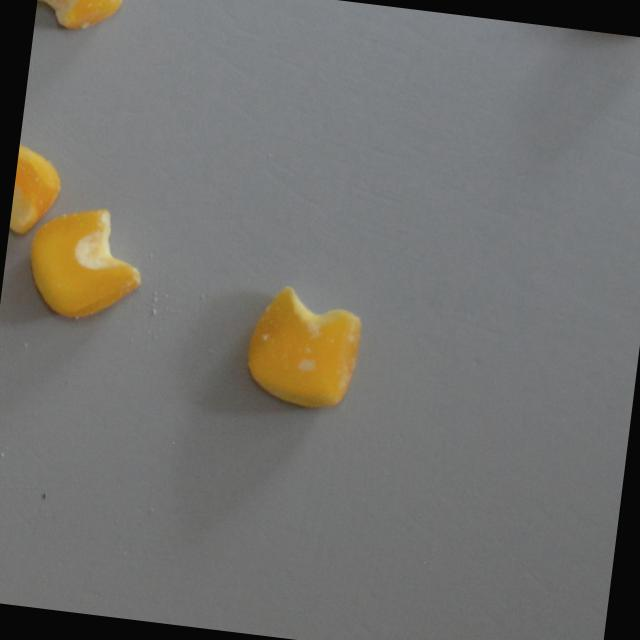no_desgerminado: (20, 197, 150, 329), (8, 137, 66, 241)
pelicula: (237, 279, 366, 417), (33, 0, 125, 42)
